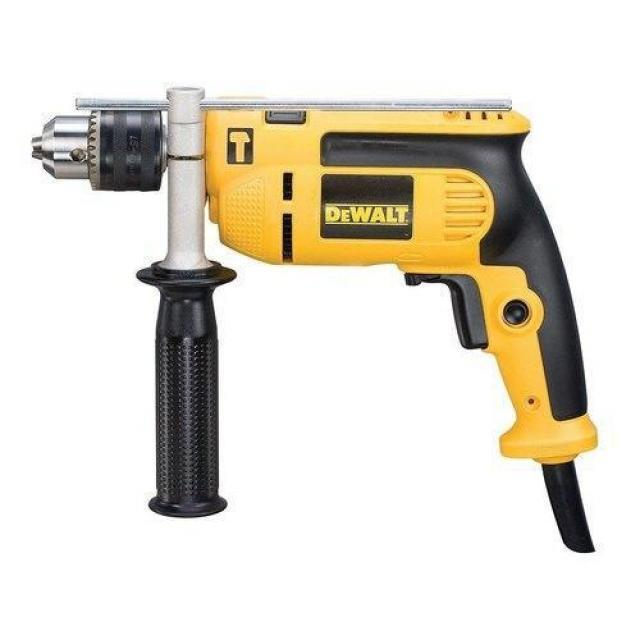drill: (32, 85, 599, 554)
